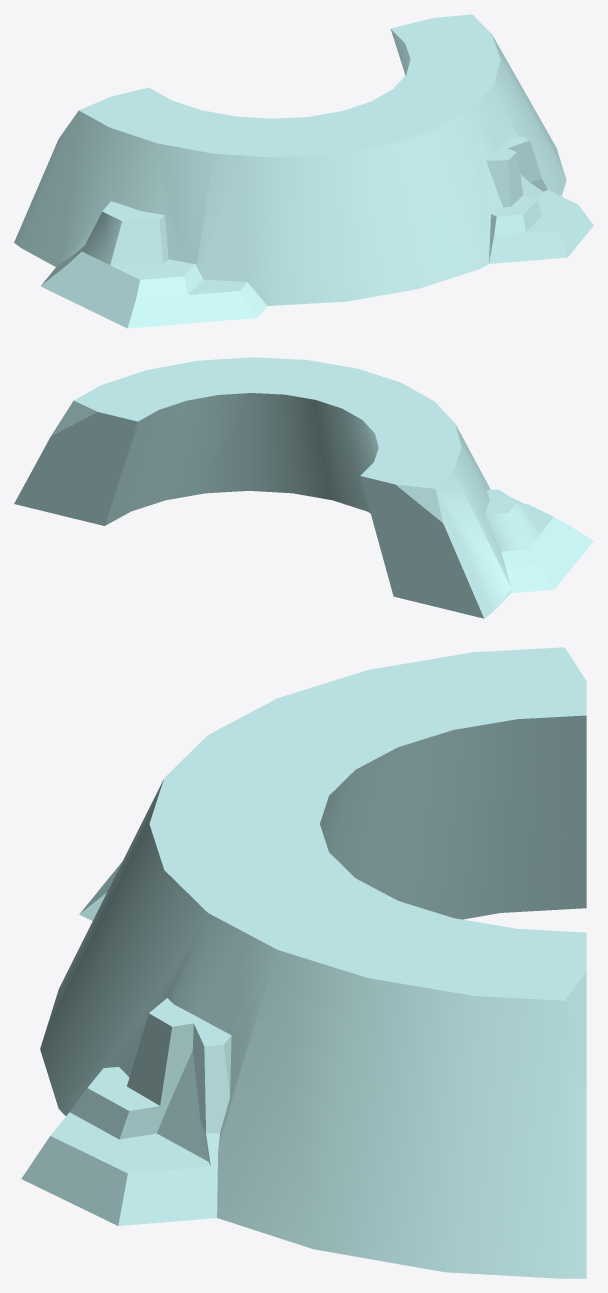
The model's file is snowFort.dae.
The picture shows the model from 3 angles, top to bottom: view 1: azimuth 30°, elevation 25°; view 2: azimuth 150°, elevation 25°; view 3: azimuth 270°, elevation 25°; orthographic projection. The views are drawn at different scales.
Parts seen in each view (by area): view 1: snowFort; view 2: snowFort; view 3: snowFort.
Boxes of the visible parts, bbox=[...] form: snowFort: bbox=[14, 14, 593, 328]; snowFort: bbox=[14, 357, 593, 618]; snowFort: bbox=[21, 647, 586, 1278].
Size of the model in its own units: 1.33 by 0.2905 by 0.6613.
